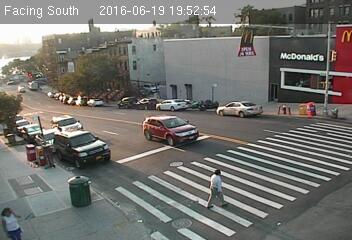neg: (221, 80, 250, 119), (115, 110, 139, 143), (295, 93, 315, 120), (35, 143, 51, 165)
pos: (197, 165, 232, 211), (1, 205, 25, 237)
